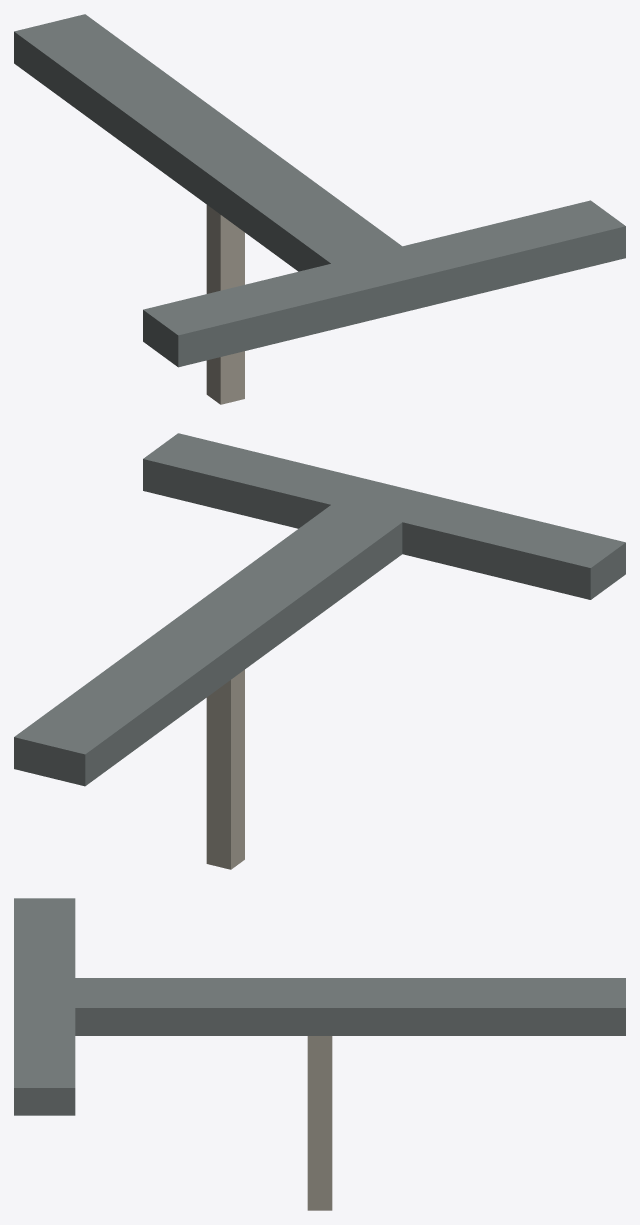
File: cyxd_wind_tee.gltf
The picture shows the model from 3 angles, top to bottom: view 1: azimuth 30°, elevation 25°; view 2: azimuth 150°, elevation 25°; view 3: azimuth 270°, elevation 25°; orthographic projection. The views are drawn at different scales.
Parts seen in each view (by area): view 1: cyxd_wind_tee_head, cyxd_wind_tee_post; view 2: cyxd_wind_tee_head, cyxd_wind_tee_post; view 3: cyxd_wind_tee_head, cyxd_wind_tee_post.
Boxes of the visible parts, x1=… form: cyxd_wind_tee_head: x1=14, y1=14, x2=625, y2=367; cyxd_wind_tee_post: x1=206, y1=205, x2=244, y2=404; cyxd_wind_tee_head: x1=14, y1=433, x2=625, y2=786; cyxd_wind_tee_post: x1=206, y1=670, x2=244, y2=869; cyxd_wind_tee_head: x1=14, y1=898, x2=625, y2=1115; cyxd_wind_tee_post: x1=307, y1=1036, x2=332, y2=1210.
Size of the model in its own units: 4.4 by 2.3 by 6.
